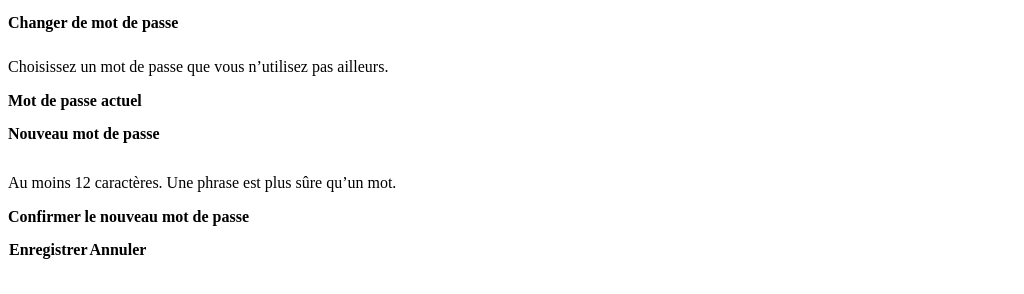
ChangePasswordPage › catches two boxes that disagree without asking the server
The width and height of the screenshot is (1024, 294).
Type "le-mot-de-passe-actuel" into the password field labelled "Mot de passe actuel". click: (512, 118)
box: [8, 110, 1016, 125]
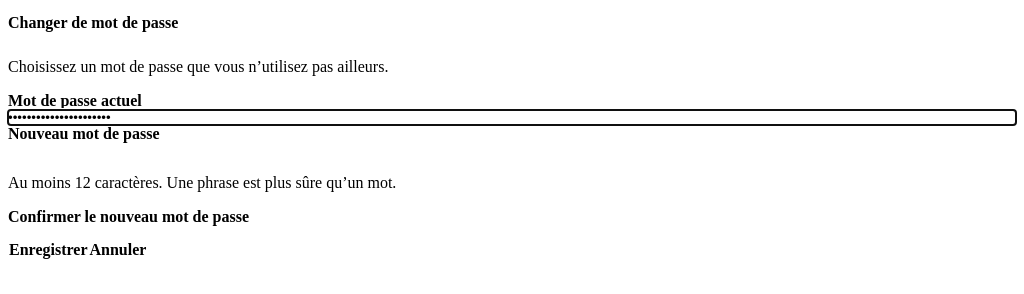
Type "une-phrase-de-passe-solide" into the password field labelled "Nouveau mot de passe". click: (512, 151)
box: [8, 143, 1016, 158]
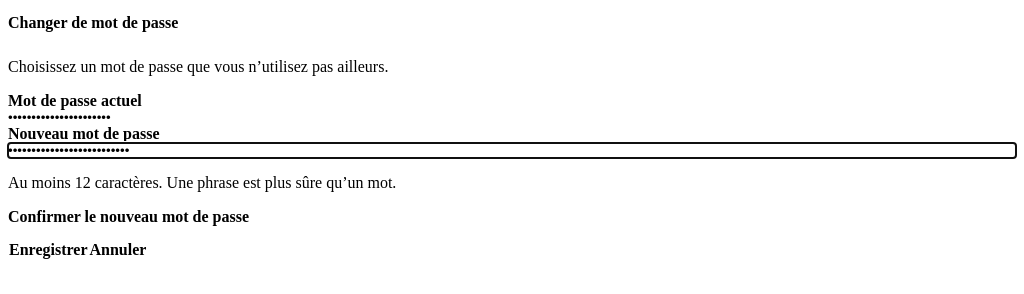
Type "une-phrase-de-passe-solidee" into the password field labelled "Confirmer le nouveau mot de passe". click: (512, 234)
box: [8, 226, 1016, 241]
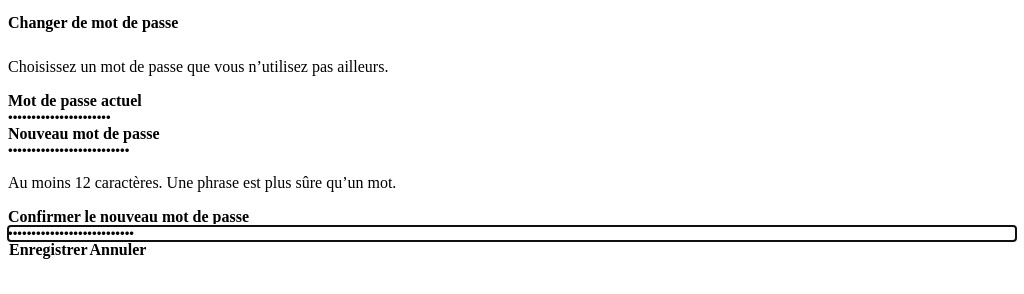
Click the button "Enregistrer". click: (48, 250)
box: [8, 241, 88, 259]
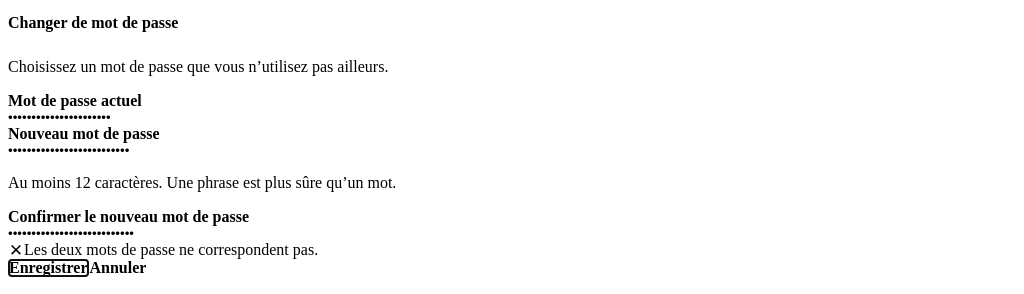
Expected: the message reads "Les deux mots de passe ne correspondent pas.", [24, 241, 318, 258]
